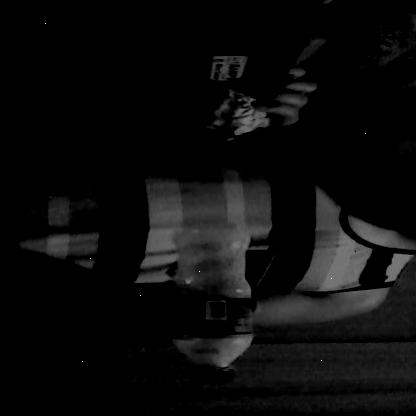Plastic Bottle: (159, 213, 263, 389)
